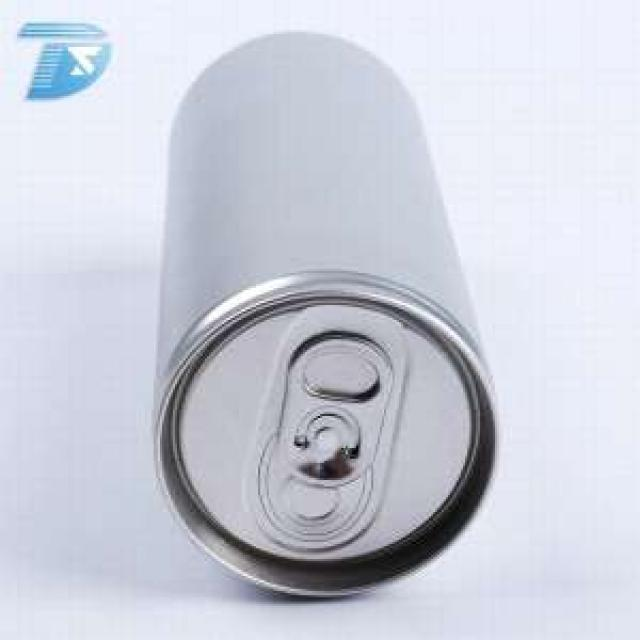can: (126, 18, 548, 616)
